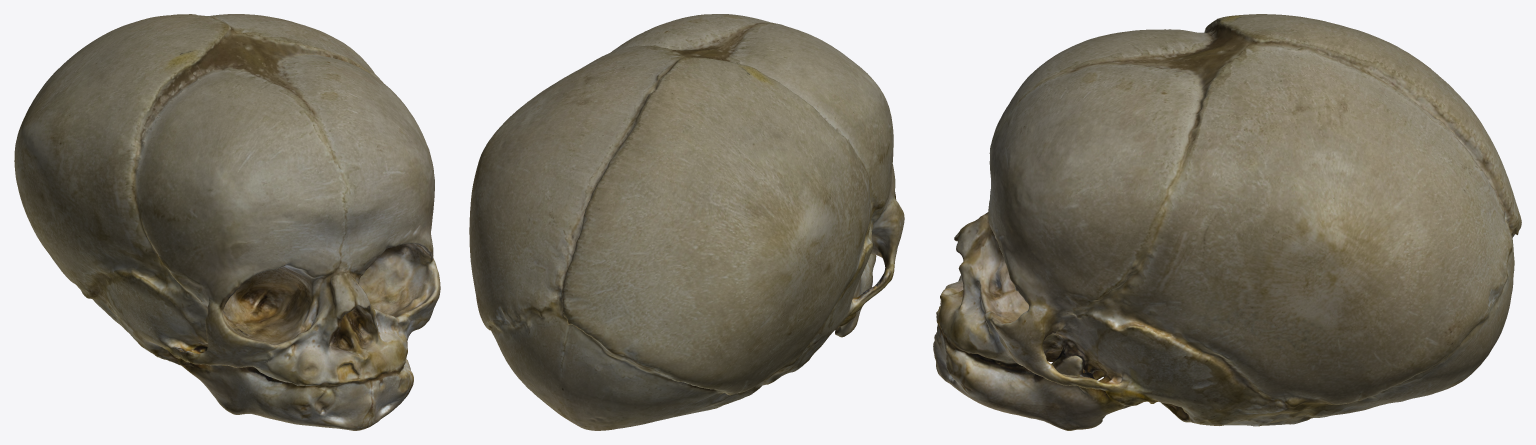
The model's file is fetal-skull.glb.
3 views of the same model, side by side, from view 1: azimuth 30°, elevation 25°; view 2: azimuth 150°, elevation 25°; view 3: azimuth 270°, elevation 25° (orthographic). The views are drawn at different scales.
Parts seen in each view (by area): view 1: UCSF fetal skull scan 1, UCSF fetal skull scan 2; view 2: UCSF fetal skull scan 1, UCSF fetal skull scan 2; view 3: UCSF fetal skull scan 1, UCSF fetal skull scan 2.
Boxes of the visible parts, bbox=[...] form: UCSF fetal skull scan 1: bbox=[14, 14, 440, 429]; UCSF fetal skull scan 2: bbox=[16, 14, 438, 430]; UCSF fetal skull scan 1: bbox=[469, 14, 904, 430]; UCSF fetal skull scan 2: bbox=[469, 14, 903, 429]; UCSF fetal skull scan 1: bbox=[933, 14, 1521, 426]; UCSF fetal skull scan 2: bbox=[934, 14, 1520, 430].
Bounding box in the file's own units: 0.1466 × 0.1366 × 0.2.
Materials: 1 (1 with a texture image).
